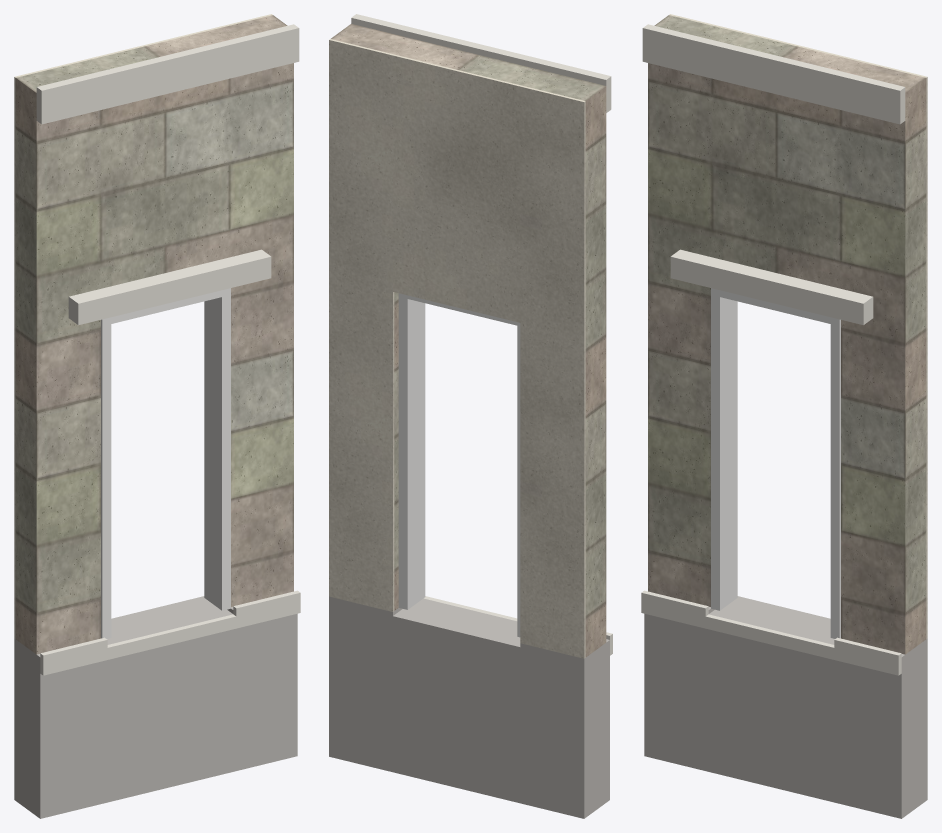
The model's file is lib_wall_backdoor.glb.
3 renders of one model, left to right at view 1: azimuth 30°, elevation 25°; view 2: azimuth 150°, elevation 25°; view 3: azimuth 330°, elevation 25°, orthographic.
Visible parts, largest first — view 1: lib_wall_backdoor_stone, lib_wall_backdoor_granite, lib_wall_backdoor_cornice, lib_wall_backdoor_frame, lib_wall_backdoor_plaster; view 2: lib_wall_backdoor_plaster, lib_wall_backdoor_granite, lib_wall_backdoor_stone, lib_wall_backdoor_frame, lib_wall_backdoor_cornice; view 3: lib_wall_backdoor_stone, lib_wall_backdoor_granite, lib_wall_backdoor_cornice, lib_wall_backdoor_frame, lib_wall_backdoor_plaster.
Boxes of the visible parts, left/top/right/bottom form: lib_wall_backdoor_stone: left=15, top=15, right=293, bottom=654; lib_wall_backdoor_granite: left=14, top=596, right=297, bottom=818; lib_wall_backdoor_cornice: left=36, top=24, right=300, bottom=675; lib_wall_backdoor_frame: left=101, top=288, right=230, bottom=638; lib_wall_backdoor_plaster: left=14, top=14, right=272, bottom=638; lib_wall_backdoor_plaster: left=329, top=39, right=585, bottom=658; lib_wall_backdoor_granite: left=329, top=596, right=609, bottom=818; lib_wall_backdoor_stone: left=331, top=24, right=606, bottom=657; lib_wall_backdoor_frame: left=398, top=293, right=520, bottom=637; lib_wall_backdoor_cornice: left=351, top=14, right=612, bottom=655; lib_wall_backdoor_stone: left=648, top=15, right=926, bottom=654; lib_wall_backdoor_granite: left=644, top=596, right=927, bottom=818; lib_wall_backdoor_cornice: left=641, top=24, right=905, bottom=675; lib_wall_backdoor_frame: left=711, top=288, right=840, bottom=638; lib_wall_backdoor_plaster: left=669, top=14, right=927, bottom=638.
Bounding box in the file's own units: 2 × 5.41 × 0.43.
5 materials, 2 textured.
